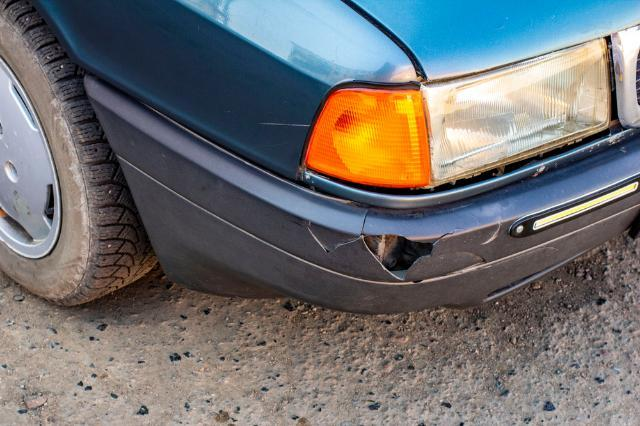crack: (305, 210, 468, 283)
